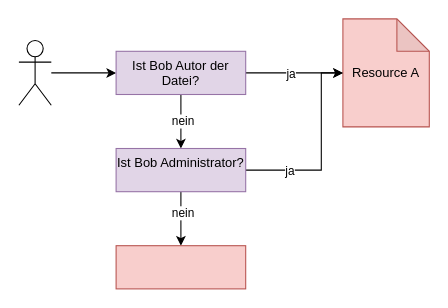
This 448x308 diagram has some shape labels left out. Here are the shapes that lost their labels. From the top down, the centre of each, then its label:
(x=34, y=72): Bob
(x=180, y=267): Weiterleitung an Fehlerseite
